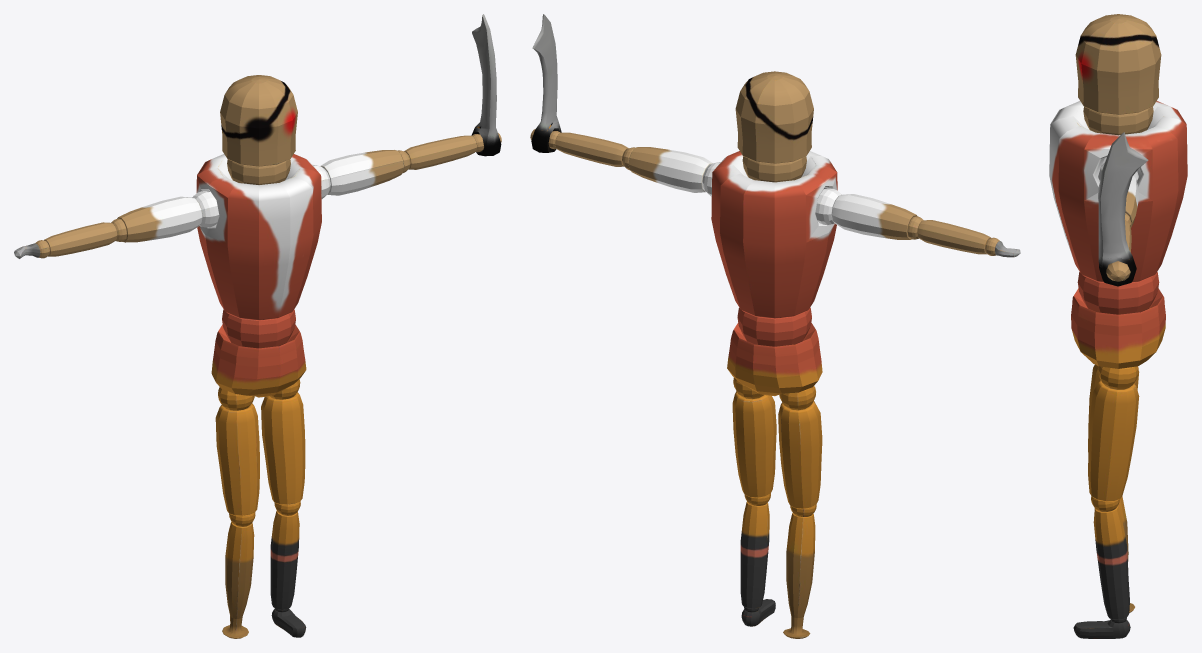
File: MasterTPose.fbx
3 views of the same model, side by side, from view 1: azimuth 30°, elevation 25°; view 2: azimuth 150°, elevation 25°; view 3: azimuth 270°, elevation 25° (orthographic). The views are drawn at different scales.
Parts seen in each view (by area): view 1: Thigh_L; view 2: Thigh_L; view 3: Thigh_L.
Part boxes in pixels (x1,y1,x2,y2): Thigh_L: (14, 14, 501, 638); Thigh_L: (530, 14, 1020, 638); Thigh_L: (1049, 14, 1187, 638).
Bounding box in the file's own units: 30.23 × 33.24 × 6.79.
